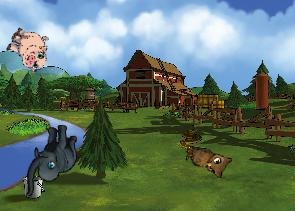elephant: (20, 123, 80, 196)
owl: (182, 145, 232, 180)
pig: (1, 22, 55, 75)
